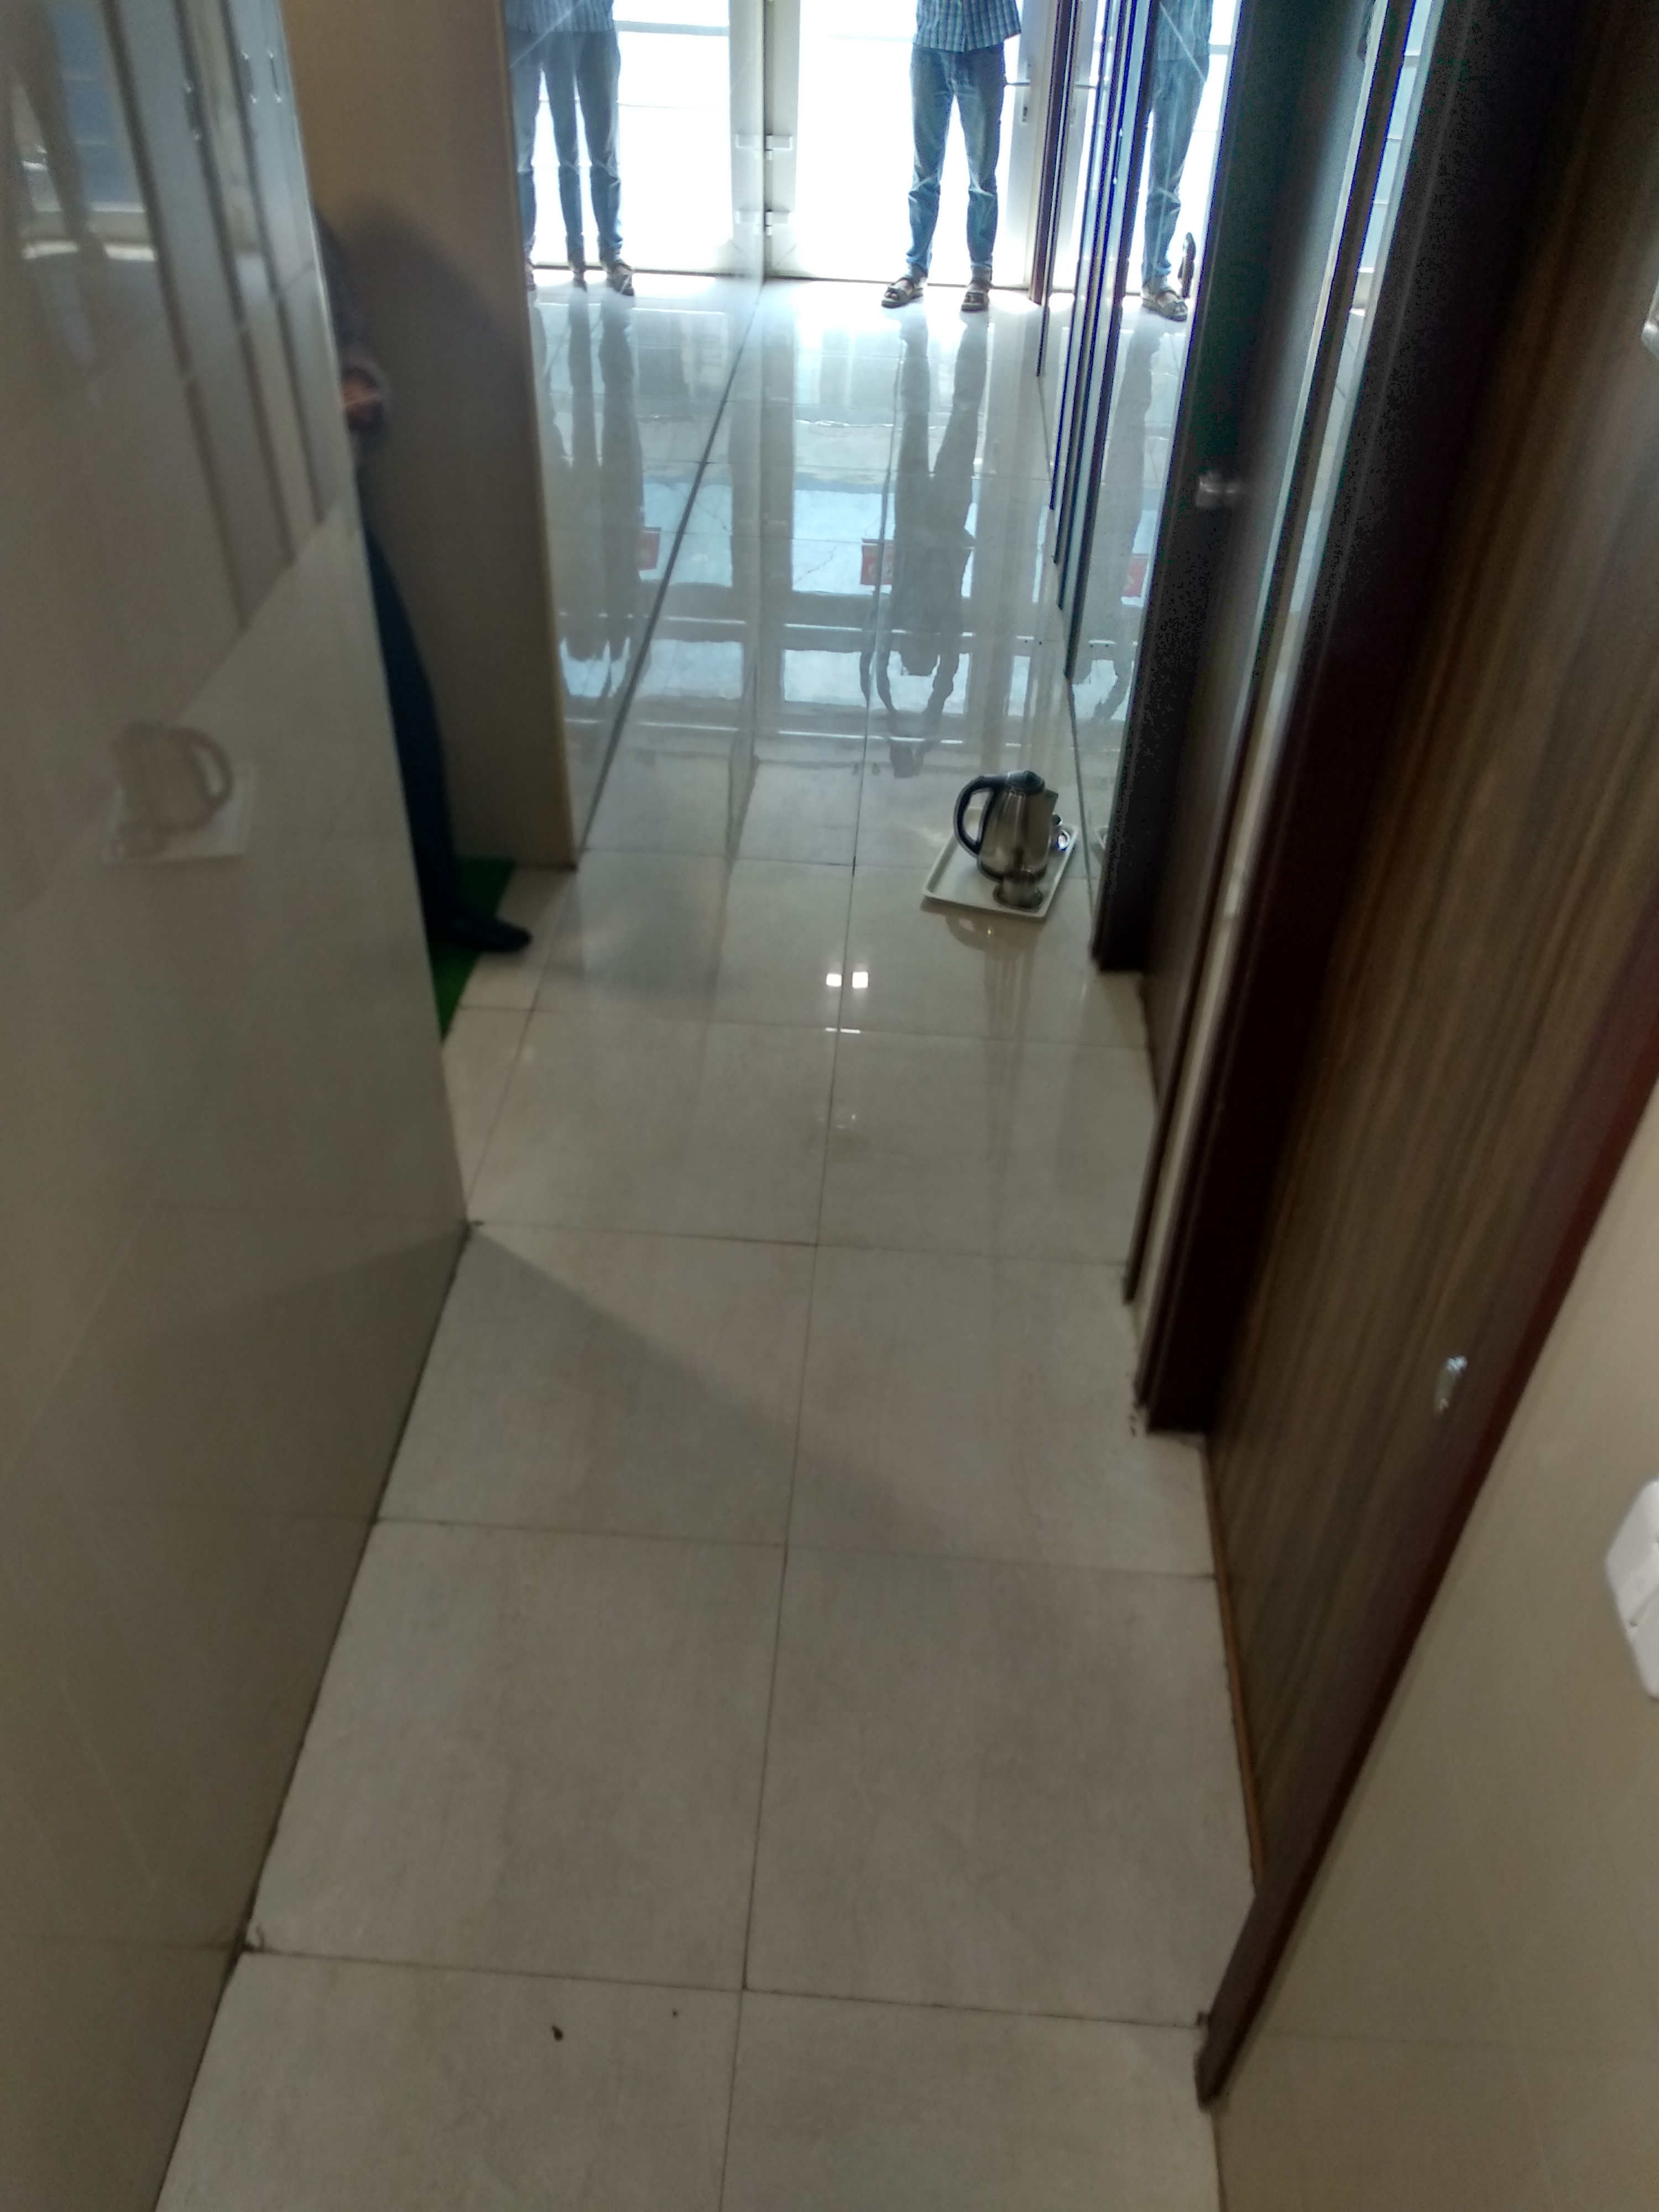CUP: (990, 864, 1053, 916)
JUG: (946, 765, 1066, 883)
